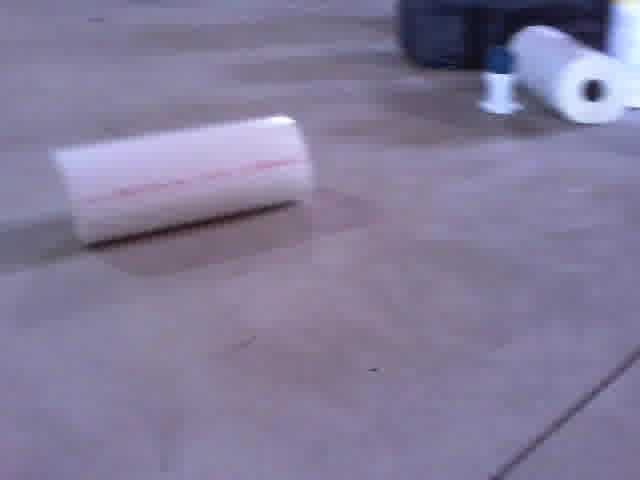coral: (50, 100, 314, 251)
